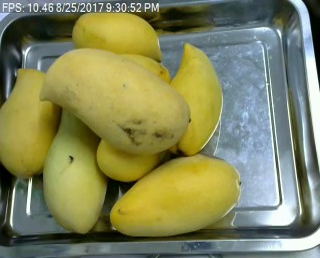Mango: (40, 48, 189, 153), (110, 155, 241, 236), (42, 100, 108, 233), (0, 67, 62, 175), (167, 44, 222, 152), (72, 11, 164, 65), (96, 135, 163, 181)
